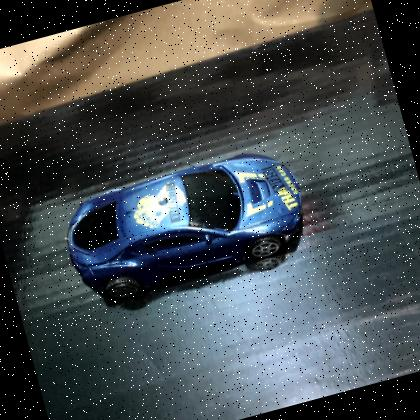Car: (66, 154, 305, 299)
